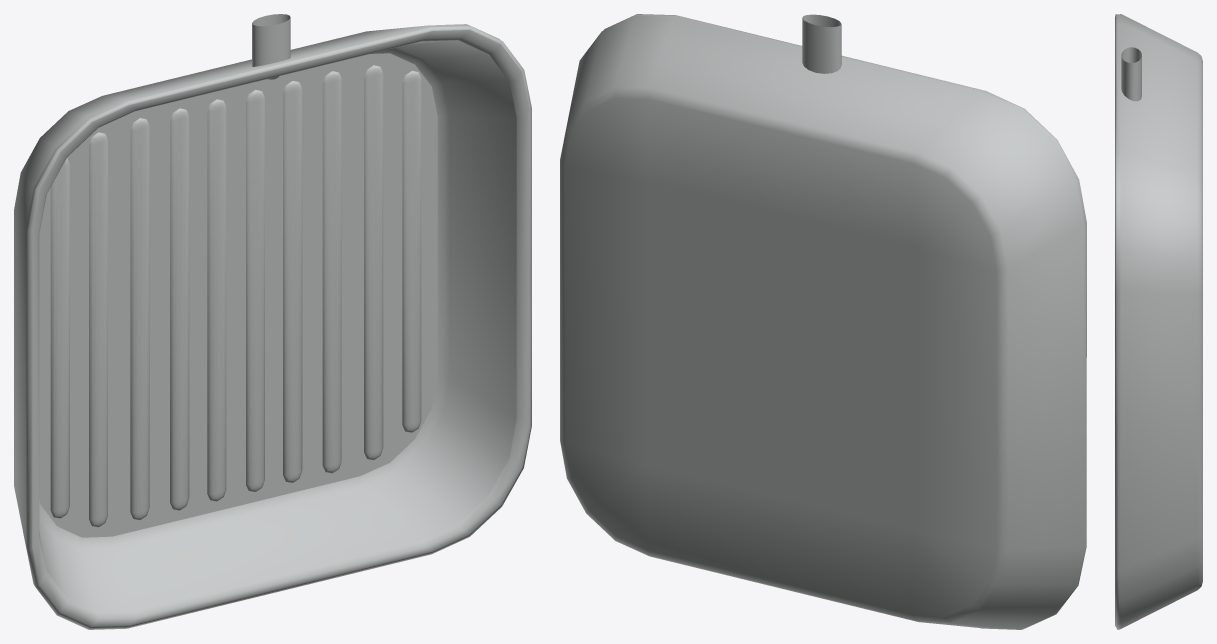
File: MeshPan_30_0_GeomSubset_0.obj
3 views of the same model, side by side, from view 1: azimuth 30°, elevation 25°; view 2: azimuth 150°, elevation 25°; view 3: azimuth 270°, elevation 25° (orthographic). The views are drawn at different scales.
Parts seen in each view (by area): view 1: MeshPan_30_0_GeomSubset_0; view 2: MeshPan_30_0_GeomSubset_0; view 3: MeshPan_30_0_GeomSubset_0.
Part boxes in pixels (bbox=[...]): MeshPan_30_0_GeomSubset_0: bbox=[14, 14, 531, 629]; MeshPan_30_0_GeomSubset_0: bbox=[560, 14, 1086, 629]; MeshPan_30_0_GeomSubset_0: bbox=[1115, 14, 1202, 629].
Size of the model in its own units: 0.269 by 0.2883 by 0.0459.
